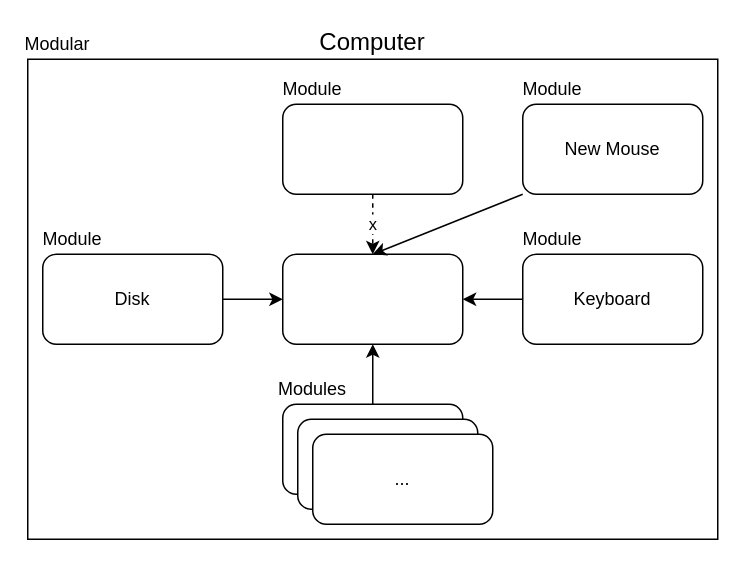
Some shapes in this 744 by 566 pixel diagram are drawn without their labels. Here are the shapes that lost their labels. From the top down, the centre of each, then its label:
pixel 372 148: Mouse
pixel 372 298: Motherboard
